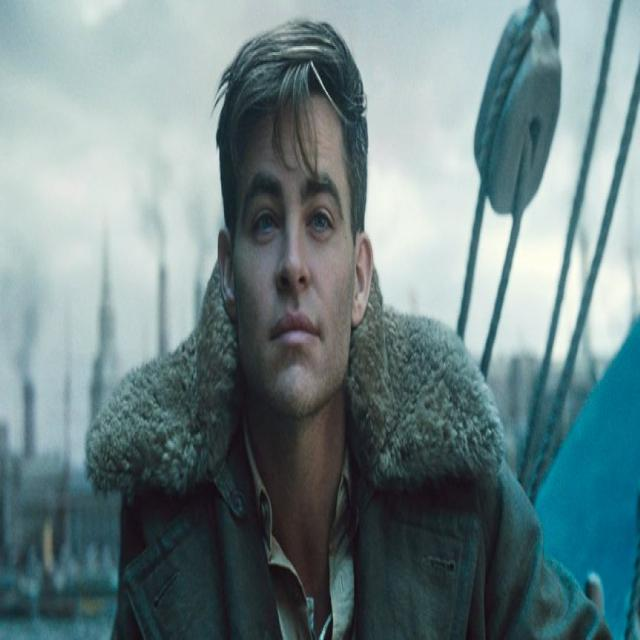human: (88, 12, 622, 640)
